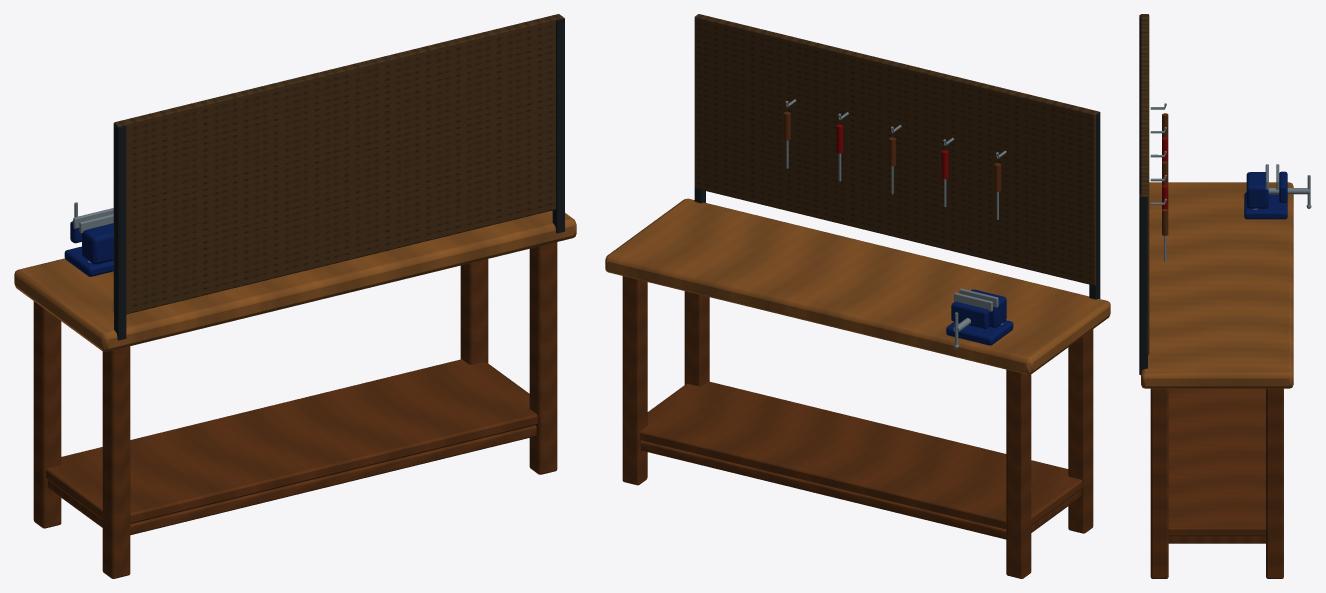
File: Workbench.gltf
3 renders of one model, left to right at view 1: azimuth 30°, elevation 25°; view 2: azimuth 150°, elevation 25°; view 3: azimuth 270°, elevation 25°, orthographic. The views are drawn at different scales.
Parts seen in each view (by area): view 1: Workbench__Body, Workbench__worktop, Workbench__leg_-1_0.83, Workbench__leg_1_0.83, Workbench__leg_-1_-0.83, Workbench__leg_1_-0.83; view 2: Workbench__Body, Workbench__worktop, Workbench__leg_-1_-0.83, Workbench__leg_1_-0.83, Workbench__leg_-1_0.83, Workbench__leg_1_0.83; view 3: Workbench__worktop, Workbench__Body, Workbench__leg_1_0.83, Workbench__leg_1_-0.83.
Part boxes in pixels (bbox=[...]): Workbench__Body: bbox=[46, 14, 564, 535]; Workbench__worktop: bbox=[14, 210, 576, 351]; Workbench__leg_-1_0.83: bbox=[102, 346, 130, 578]; Workbench__leg_1_0.83: bbox=[529, 242, 557, 474]; Workbench__leg_-1_-0.83: bbox=[33, 301, 61, 528]; Workbench__leg_1_-0.83: bbox=[460, 259, 488, 364]; Workbench__Body: bbox=[640, 14, 1100, 539]; Workbench__worktop: bbox=[605, 198, 1110, 374]; Workbench__leg_-1_-0.83: bbox=[1006, 369, 1031, 578]; Workbench__leg_1_-0.83: bbox=[622, 276, 647, 485]; Workbench__leg_-1_0.83: bbox=[1068, 329, 1093, 533]; Workbench__leg_1_0.83: bbox=[684, 291, 709, 386]; Workbench__worktop: bbox=[1141, 182, 1293, 388]; Workbench__Body: bbox=[1139, 14, 1311, 543]; Workbench__leg_1_0.83: bbox=[1150, 388, 1168, 578]; Workbench__leg_1_-0.83: bbox=[1266, 388, 1283, 578].
Size of the model in its own units: 1.82 by 1.68 by 0.6818.
1 material, 1 textured.
